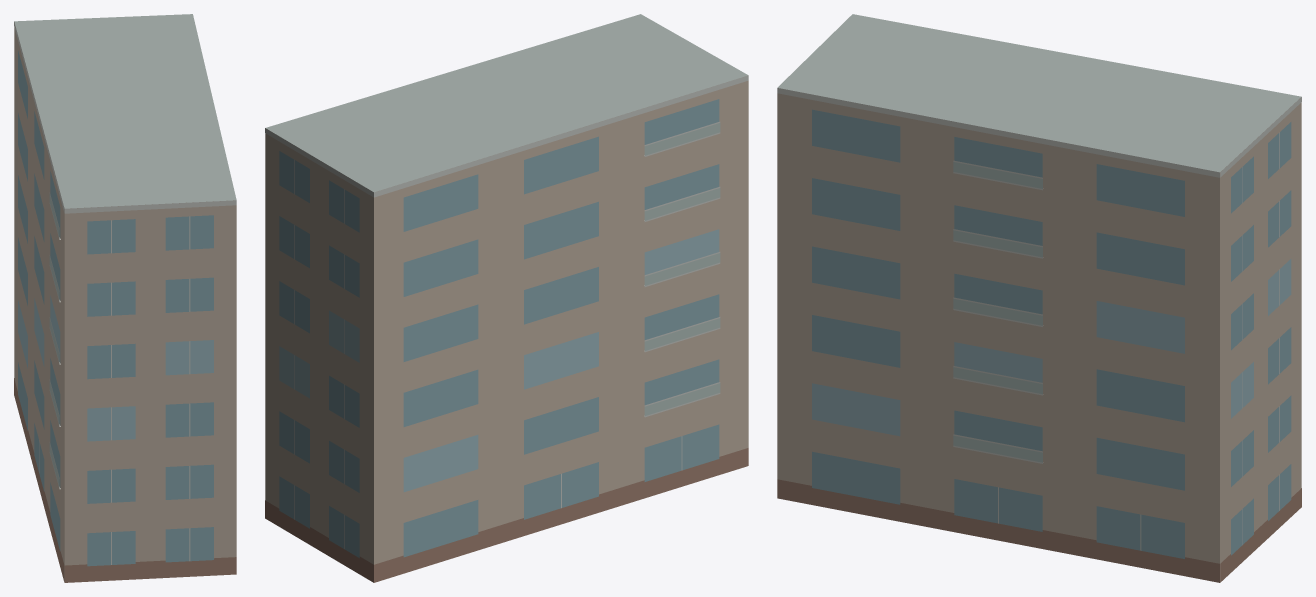
File: survey-upis-32888619.glb
The picture shows the model from 3 angles, left to right: view 1: azimuth 30°, elevation 25°; view 2: azimuth 150°, elevation 25°; view 3: azimuth 270°, elevation 25°; orthographic projection. The views are drawn at different scales.
Parts seen in each view (by area): view 1: survey-upis-32888619.tmp; view 2: survey-upis-32888619.tmp; view 3: survey-upis-32888619.tmp.
Boxes of the visible parts, bbox=[...] form: survey-upis-32888619.tmp: bbox=[14, 14, 236, 582]; survey-upis-32888619.tmp: bbox=[265, 14, 748, 582]; survey-upis-32888619.tmp: bbox=[777, 14, 1301, 582].
Bounding box in the file's own units: 15.15 × 18.3 × 21.2.
